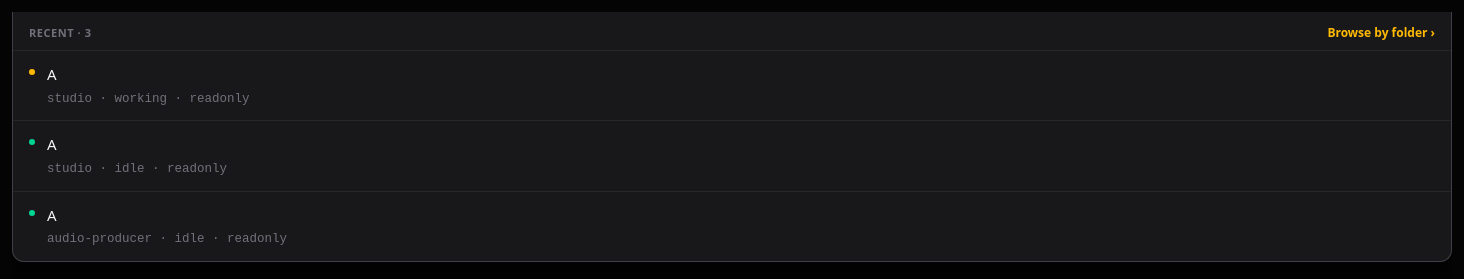
Scenario: SessionPicker as a dropdown (spec §4) › tapping "Browse by folder" swaps to a folder-grouped list with counts and aggregated state dots
Click the button "Browse by folder ›" at (1381, 33), box [1327,24,1435,42]
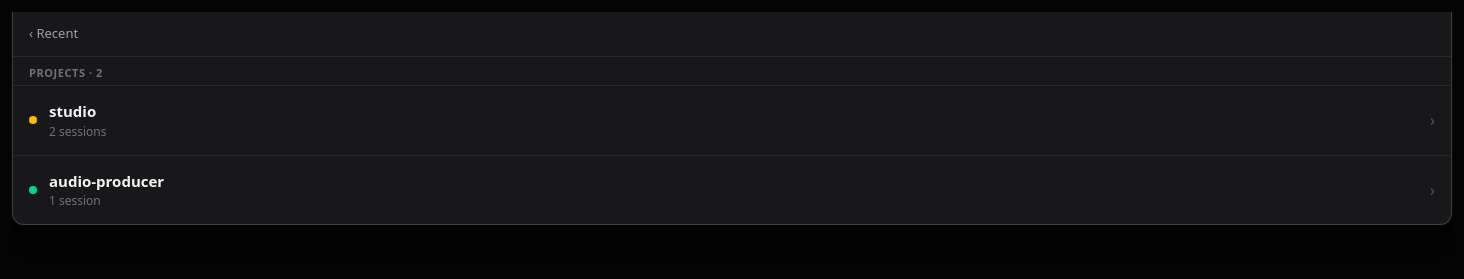
Expected: the text "studio" is shown, [49,101,96,121]
Result: the text "2 sessions" is shown at [49,122,106,140]
Result: the text "1 session" is shown at [49,192,101,209]
